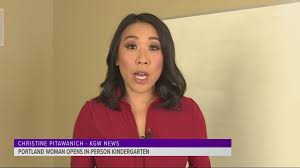No-Glasses: (117, 36, 164, 57)
